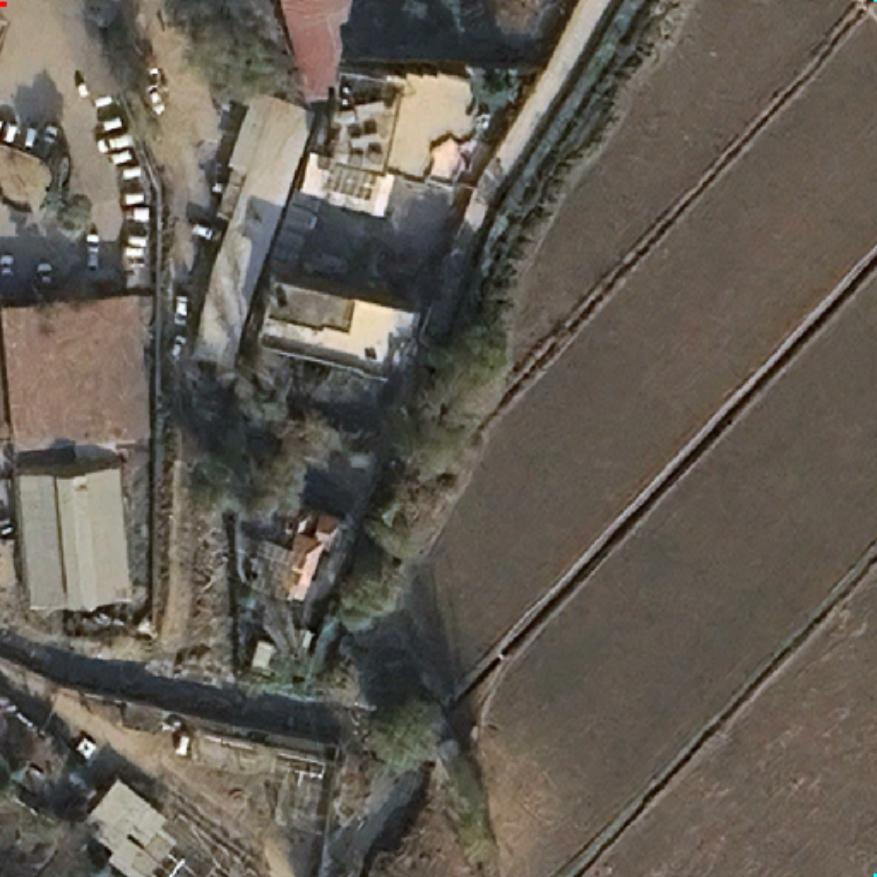Solarpanel: (317, 159, 379, 204)
